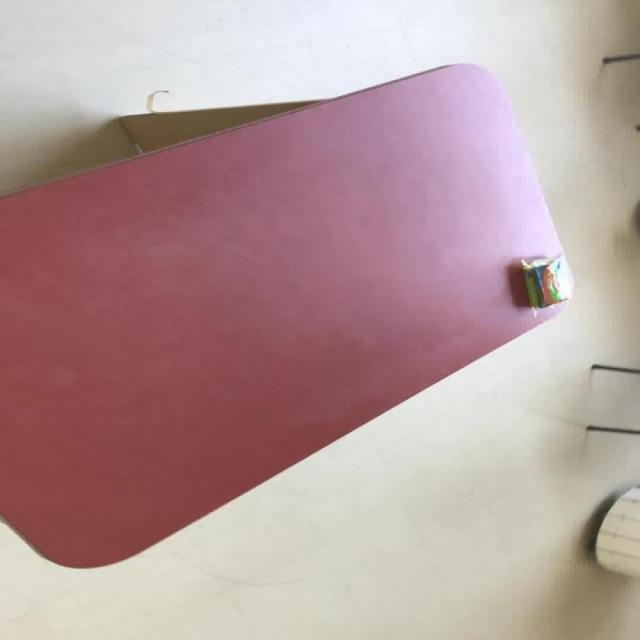Sponge: (1, 61, 573, 568), (592, 485, 638, 576), (518, 254, 571, 310)
